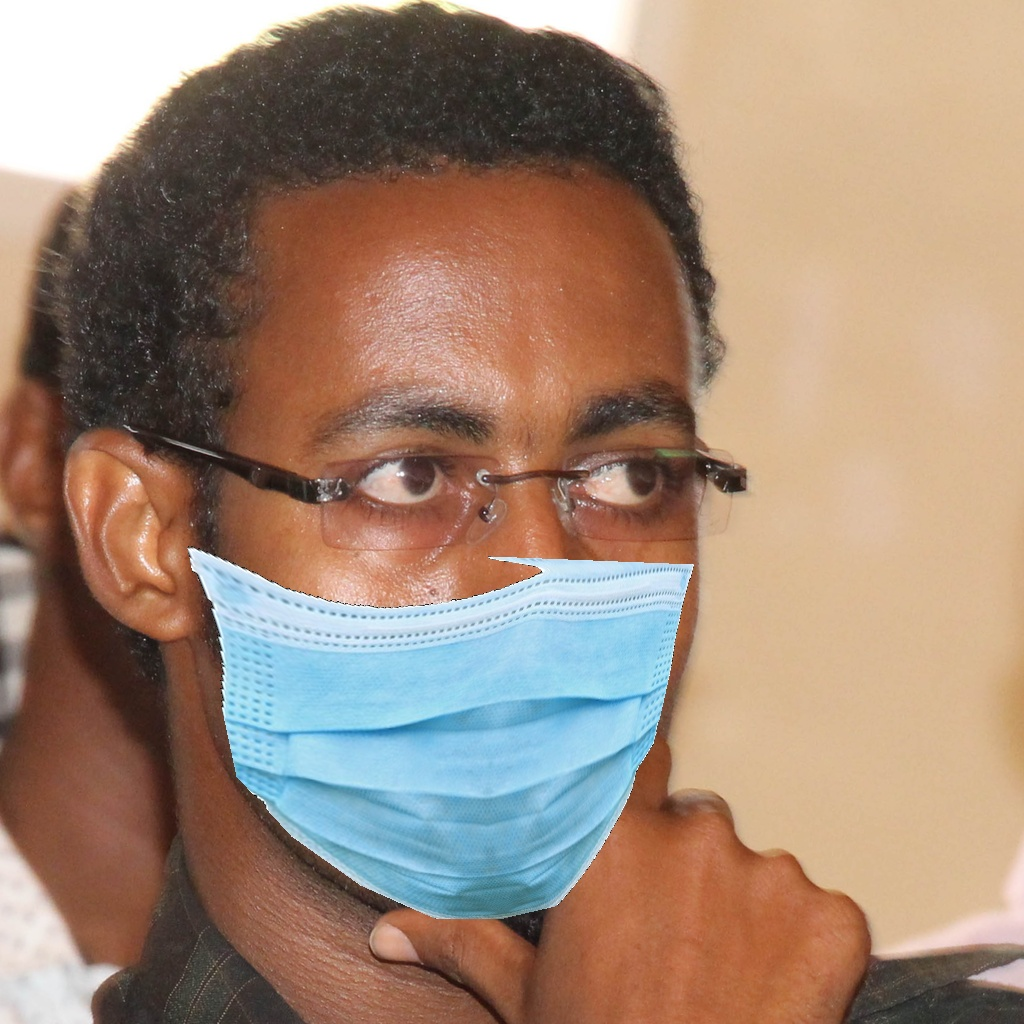Mask: (182, 341, 711, 929)
